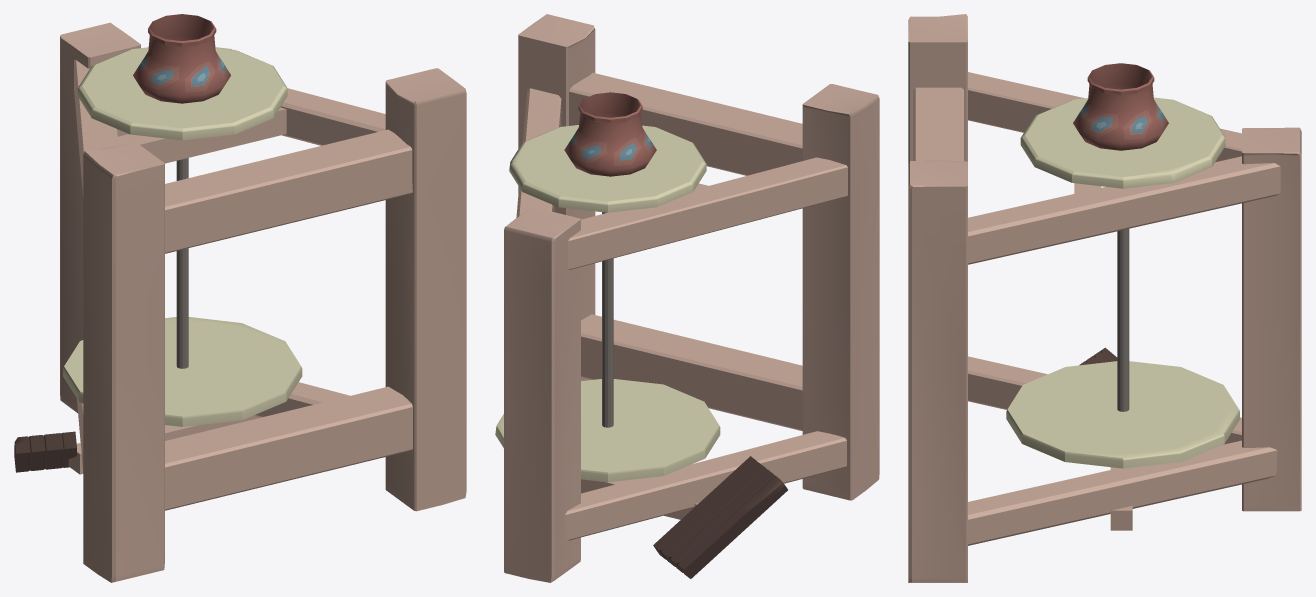
The model's file is atoll_potters_wheel.fbx.
3 renders of one model, left to right at view 1: azimuth 30°, elevation 25°; view 2: azimuth 150°, elevation 25°; view 3: azimuth 270°, elevation 25°, orthographic. The views are drawn at different scales.
Parts seen in each view (by area): view 1: pw_cage, pw_spindle, pCylinder5, pCube12; view 2: pw_cage, pw_spindle, pCube12, pCylinder5; view 3: pw_cage, pw_spindle, pCylinder5.
Part boxes in pixels (<box>): pw_cage: <box>60,22,466,582</box>; pw_spindle: <box>63,47,302,426</box>; pCylinder5: <box>133,14,230,103</box>; pCube12: <box>14,431,76,472</box>; pw_cage: <box>504,14,879,582</box>; pw_spindle: <box>495,125,720,482</box>; pCube12: <box>653,456,787,578</box>; pCylinder5: <box>564,92,656,176</box>; pw_cage: <box>908,14,1301,582</box>; pw_spindle: <box>1006,97,1239,468</box>; pCylinder5: <box>1073,63,1168,150</box>.
Size of the model in its own units: 12.77 by 15.25 by 12.54.
